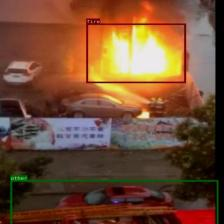fire: (86, 23, 186, 83)
